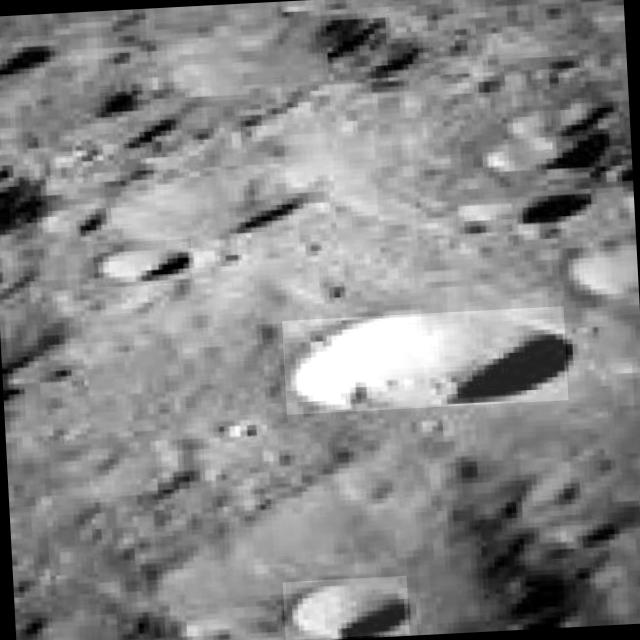crater: (282, 306, 568, 415), (282, 576, 410, 640), (93, 238, 193, 288)
